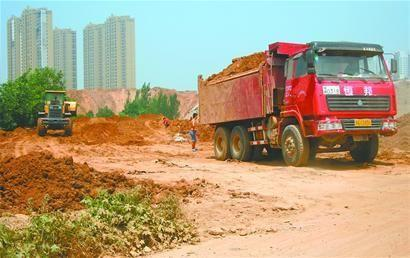truck: (193, 38, 398, 170)
